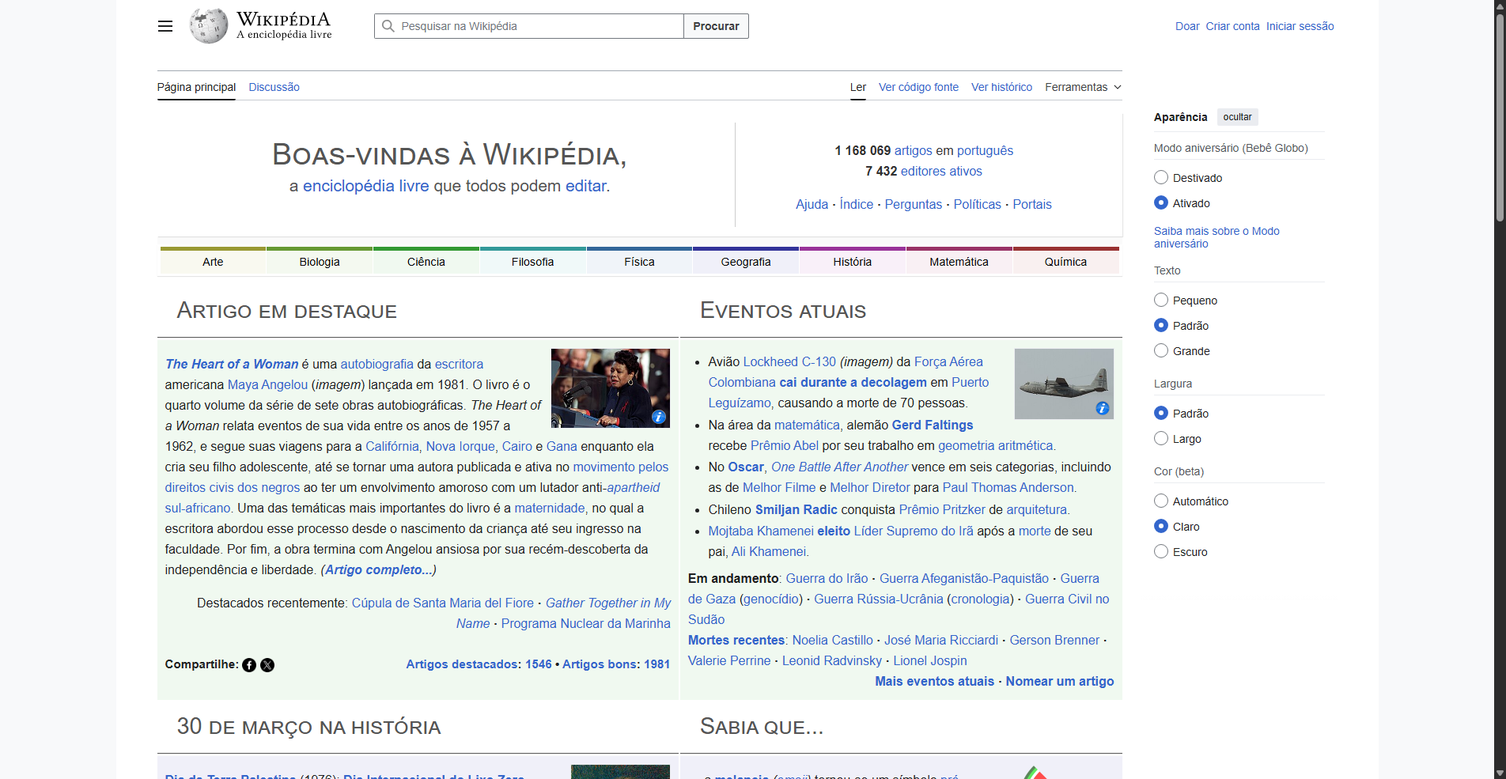button: (374, 13, 749, 39), (951, 130, 1073, 148), (1045, 71, 1122, 99), (164, 71, 286, 88), (684, 13, 749, 39), (1217, 108, 1258, 126), (152, 13, 178, 39)
checkbox: (1045, 71, 1122, 98), (152, 13, 178, 39)
dropdown: (151, 39, 335, 64), (938, 98, 1122, 123), (1045, 71, 1122, 98), (1045, 81, 1108, 93), (165, 26, 165, 26)
input: (374, 13, 684, 39)
label: (1154, 194, 1324, 215), (1154, 291, 1324, 312), (1154, 342, 1324, 363), (1154, 404, 1324, 425), (1154, 492, 1324, 513), (1154, 169, 1324, 189), (1154, 317, 1324, 337), (1154, 430, 1324, 450), (1154, 518, 1324, 538), (1154, 543, 1324, 563)
link: (165, 460, 669, 494), (165, 481, 659, 515), (688, 593, 1109, 627), (688, 572, 1099, 606), (550, 348, 671, 429), (708, 376, 989, 410), (708, 355, 983, 389), (456, 596, 671, 631), (1014, 348, 1114, 420), (272, 137, 451, 171), (1154, 219, 1324, 254), (189, 6, 331, 46), (951, 325, 1097, 360), (951, 361, 1097, 396), (483, 137, 619, 171), (164, 191, 310, 214), (164, 478, 310, 501), (951, 451, 1097, 474), (951, 552, 1097, 575), (951, 645, 1097, 668), (951, 738, 1097, 761), (164, 99, 310, 121), (164, 122, 310, 144), (164, 145, 310, 167), (164, 168, 310, 190), (164, 215, 310, 237), (164, 238, 310, 260), (164, 261, 310, 283), (164, 316, 310, 338), (164, 339, 310, 361), (164, 362, 310, 384), (164, 386, 310, 408), (164, 409, 310, 431), (164, 432, 310, 454), (164, 455, 310, 477), (164, 502, 310, 524), (951, 186, 1097, 208), (951, 209, 1097, 231), (951, 232, 1097, 254), (951, 255, 1097, 277), (951, 279, 1097, 301), (951, 302, 1097, 324), (951, 428, 1097, 450), (951, 475, 1097, 497), (951, 529, 1097, 551), (951, 576, 1097, 598), (951, 599, 1097, 621), (951, 622, 1097, 644), (951, 669, 1097, 691), (951, 692, 1097, 714), (951, 715, 1097, 737), (352, 596, 534, 610), (951, 762, 1097, 779), (501, 617, 671, 631), (879, 572, 1049, 586), (879, 71, 959, 100), (157, 71, 236, 100), (779, 376, 927, 389), (771, 460, 908, 474), (971, 71, 1032, 100), (303, 176, 394, 195), (165, 358, 298, 371), (942, 481, 1074, 494), (814, 593, 943, 606), (406, 657, 518, 671), (875, 675, 995, 688), (854, 525, 973, 538), (248, 71, 300, 100), (325, 563, 432, 577), (938, 439, 1053, 452), (1015, 764, 1114, 779), (884, 634, 998, 647), (1006, 675, 1114, 688), (782, 654, 882, 668), (708, 525, 814, 538), (688, 774, 963, 779), (743, 355, 836, 369), (688, 634, 785, 647), (1009, 634, 1099, 647), (688, 654, 771, 668), (786, 572, 868, 586), (892, 418, 973, 432), (228, 378, 308, 392), (899, 503, 985, 516), (755, 503, 838, 516), (901, 165, 982, 178), (792, 634, 873, 647), (731, 545, 806, 559), (830, 481, 910, 494), (562, 657, 636, 671), (893, 654, 967, 668), (340, 358, 414, 371), (743, 481, 816, 494), (774, 418, 840, 432), (514, 502, 585, 515), (343, 774, 525, 779), (426, 440, 495, 453), (750, 439, 819, 452), (1266, 20, 1334, 32), (1006, 503, 1067, 516), (930, 255, 989, 268), (566, 176, 606, 195), (951, 593, 1009, 606), (885, 198, 942, 211), (957, 144, 1013, 157), (365, 440, 419, 453), (744, 593, 798, 606), (165, 774, 296, 779), (721, 255, 771, 268), (1206, 20, 1260, 32), (435, 358, 483, 371), (954, 198, 1001, 211), (399, 176, 429, 195), (512, 255, 554, 268), (1045, 255, 1087, 268), (299, 255, 340, 268), (1013, 198, 1052, 211), (833, 255, 872, 268), (728, 460, 764, 474), (894, 144, 932, 157), (407, 255, 445, 268), (850, 71, 866, 100), (840, 198, 873, 211), (817, 525, 850, 538), (1018, 525, 1051, 538), (796, 198, 828, 211), (624, 255, 655, 268), (546, 440, 577, 453), (502, 440, 532, 453), (525, 657, 552, 671), (644, 657, 671, 671), (1175, 20, 1199, 32), (203, 255, 224, 268), (715, 774, 769, 779), (651, 409, 667, 425), (1094, 400, 1110, 416), (242, 657, 257, 671), (260, 657, 274, 671), (777, 774, 807, 779)
radio: (1154, 195, 1169, 211), (1154, 292, 1169, 308), (1154, 317, 1169, 333), (1154, 343, 1169, 359), (1154, 405, 1169, 421), (1154, 493, 1169, 509), (1154, 518, 1169, 534), (1154, 170, 1169, 185), (1154, 431, 1169, 446), (1154, 544, 1169, 559)
